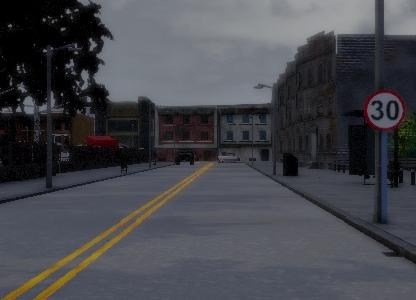Speed_30: (359, 86, 408, 132)
